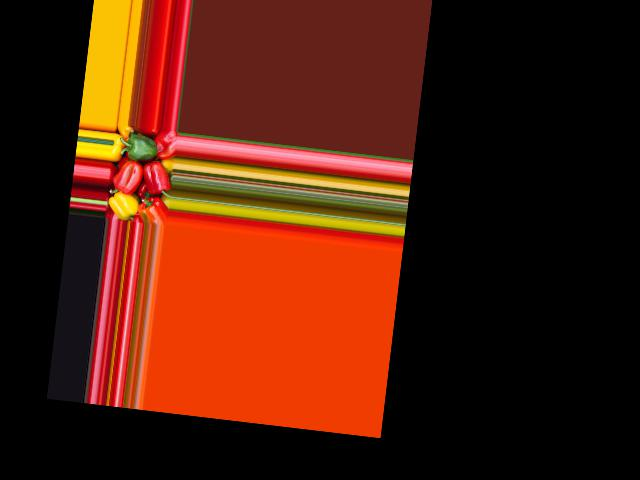bell_pepper: (105, 188, 142, 222)
